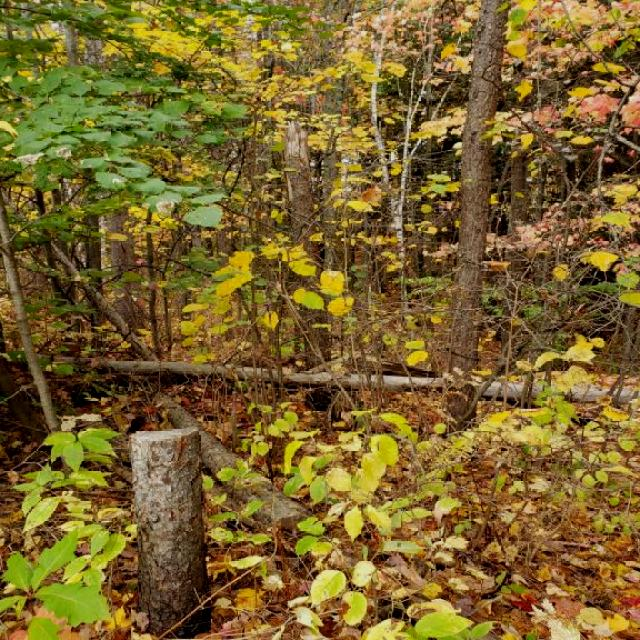fallen_object: (10, 300, 640, 459)
